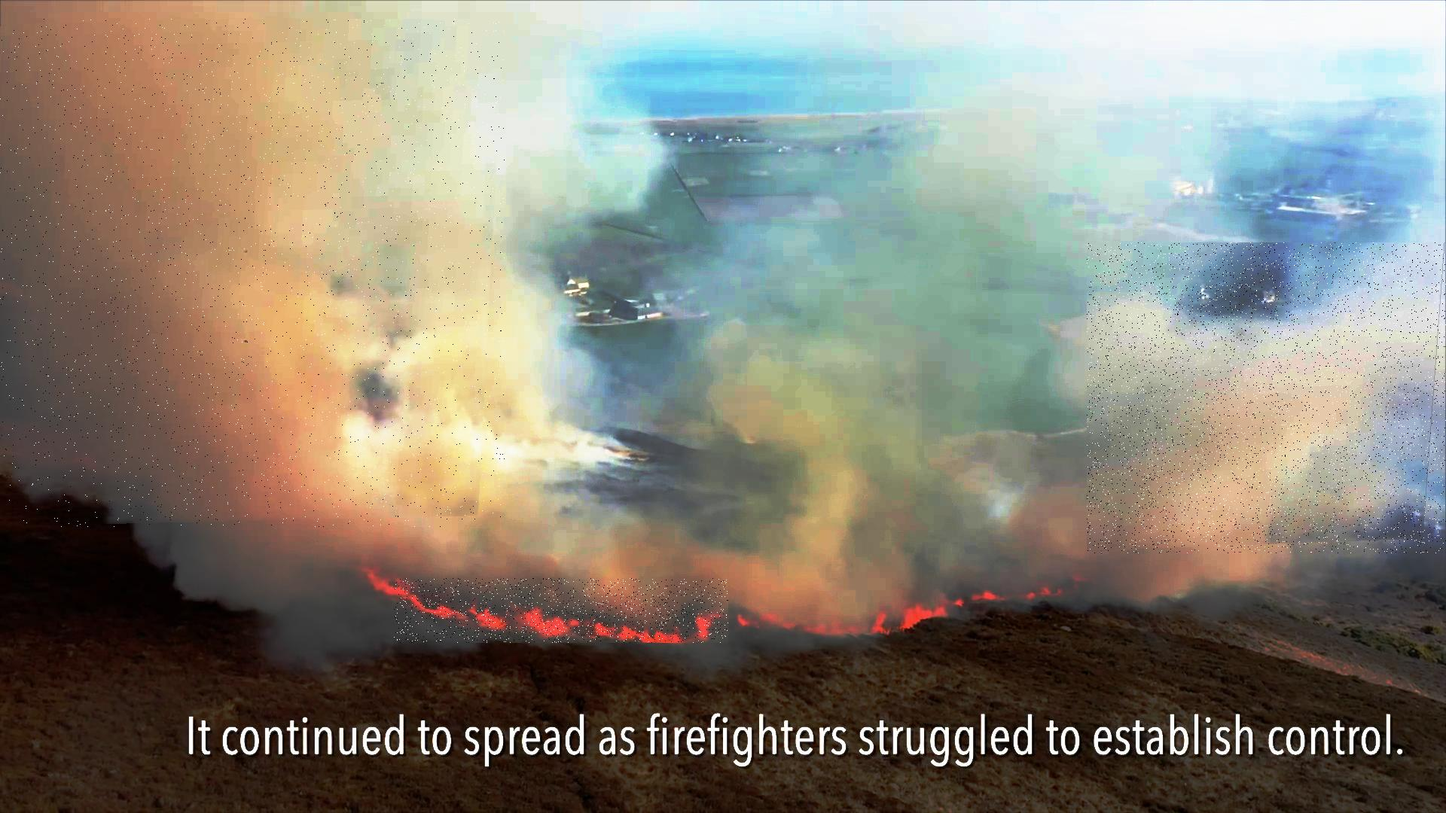fire: (394, 578, 728, 643)
smoke: (0, 19, 505, 527), (1087, 243, 1446, 554)
